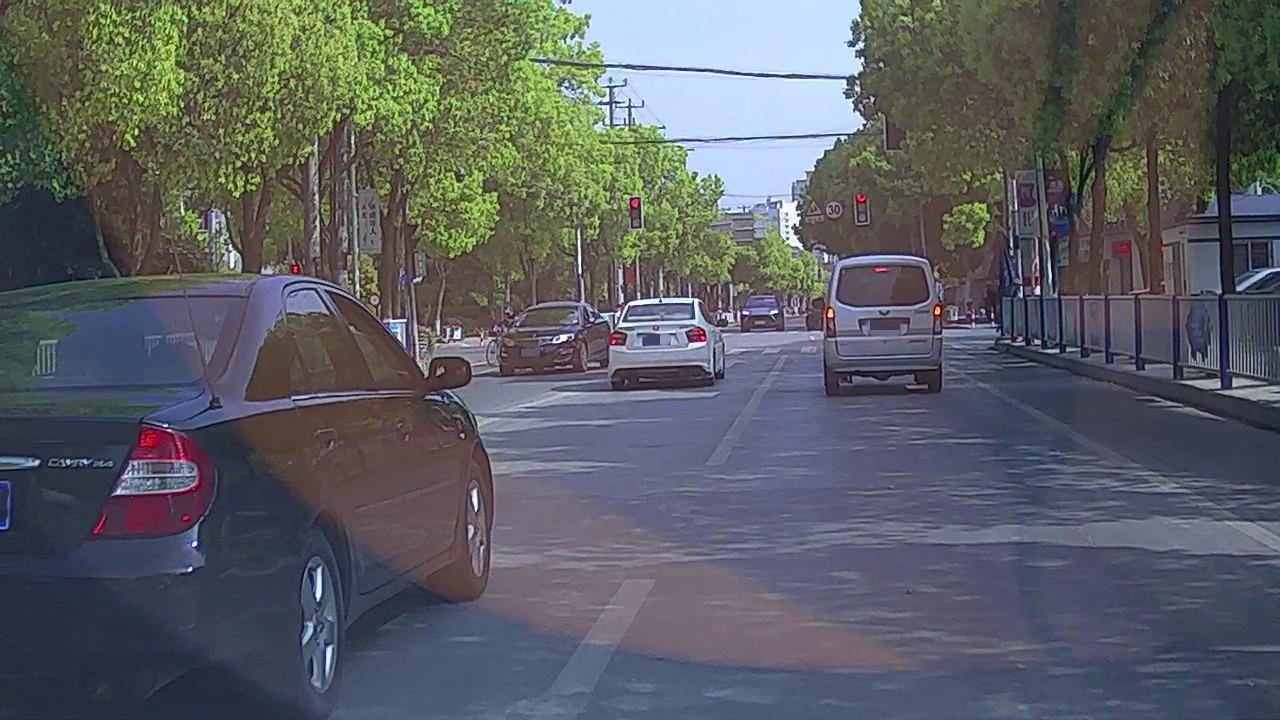traffic_light: (854, 193, 868, 223), (630, 197, 642, 228)
